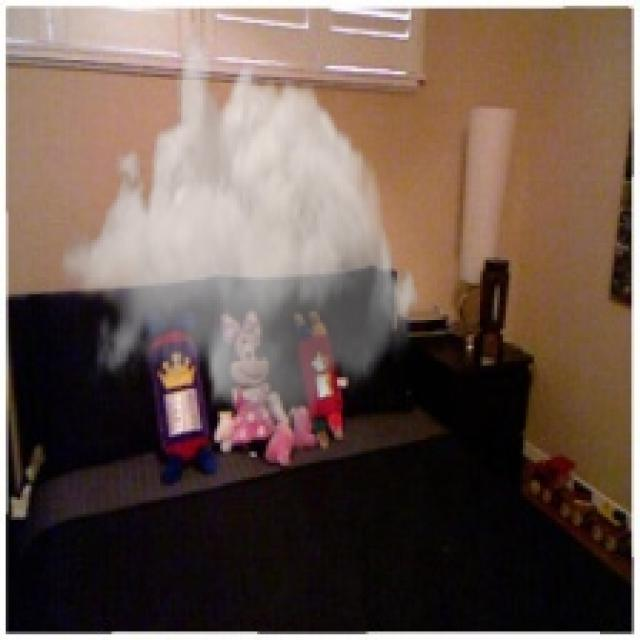smoke: (60, 31, 423, 452)
